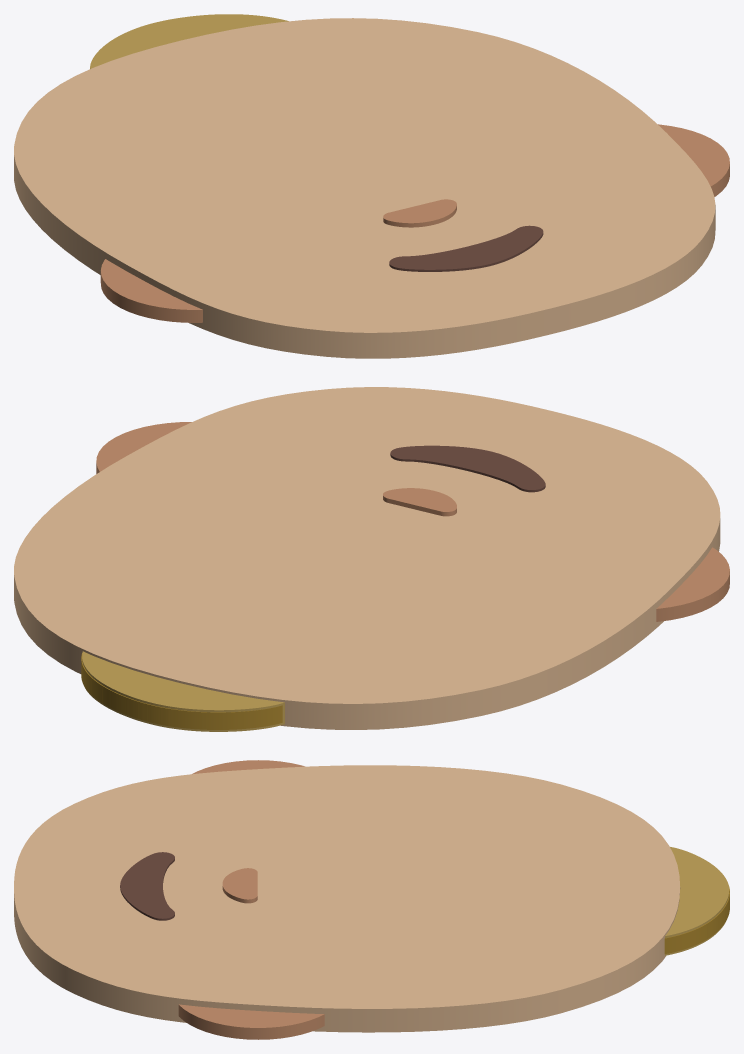
Rendered from emoji_u1f476_1f3fc.glb.
3 renders of one model, top to bottom at view 1: azimuth 30°, elevation 25°; view 2: azimuth 150°, elevation 25°; view 3: azimuth 270°, elevation 25°, orthographic. The views are drawn at different scales.
Visible parts, largest first — view 1: emoji_u1f476_1f3fc; view 2: emoji_u1f476_1f3fc; view 3: emoji_u1f476_1f3fc.
Boxes of the visible parts, x1,y1,x2,y2 form: emoji_u1f476_1f3fc: (14,14,729,358); emoji_u1f476_1f3fc: (14,387,729,731); emoji_u1f476_1f3fc: (14,760,729,1039).
Bounding box in the file's own units: 0.0293 × 0.0016 × 0.0331.
